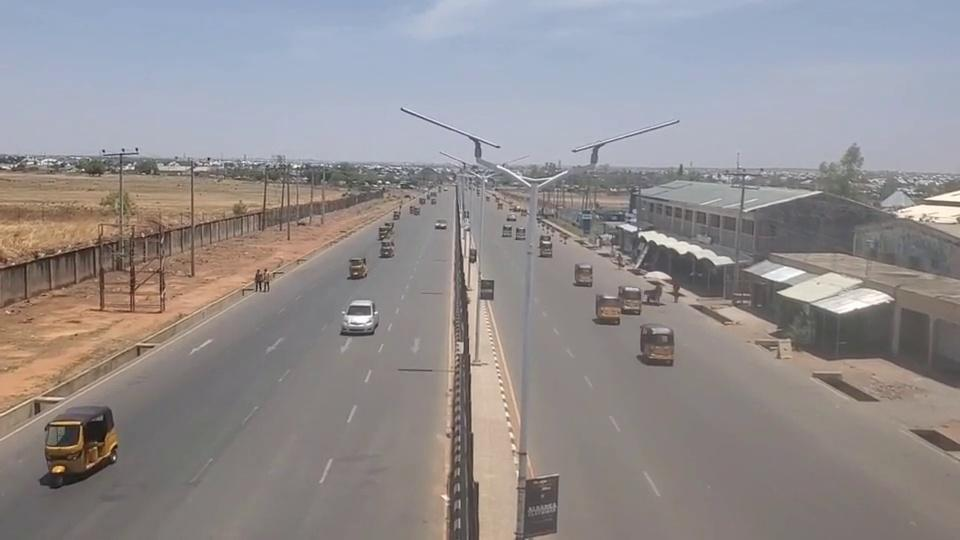car: (340, 299, 378, 334)
keke: (43, 406, 120, 488), (639, 324, 675, 364), (595, 293, 622, 324), (349, 257, 368, 279)
